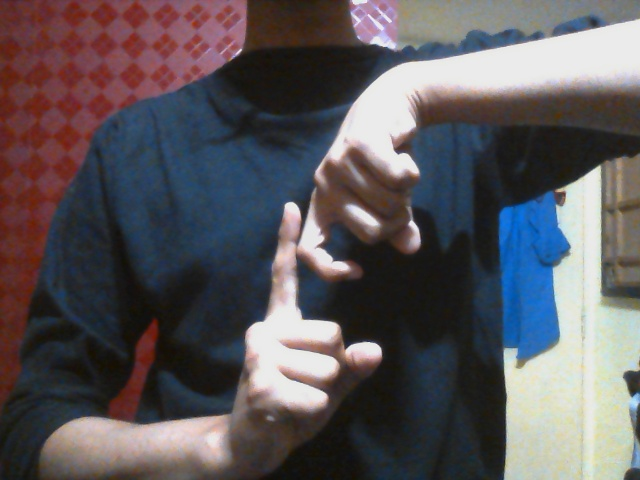K: (234, 141, 422, 449)
